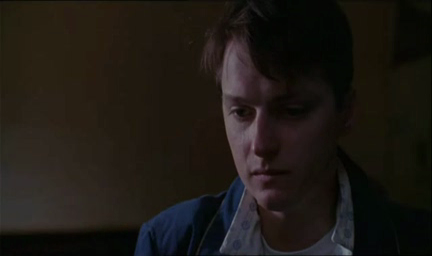cu: (1, 1, 432, 256)
face: (221, 71, 323, 211)
person: (134, 1, 432, 256)
